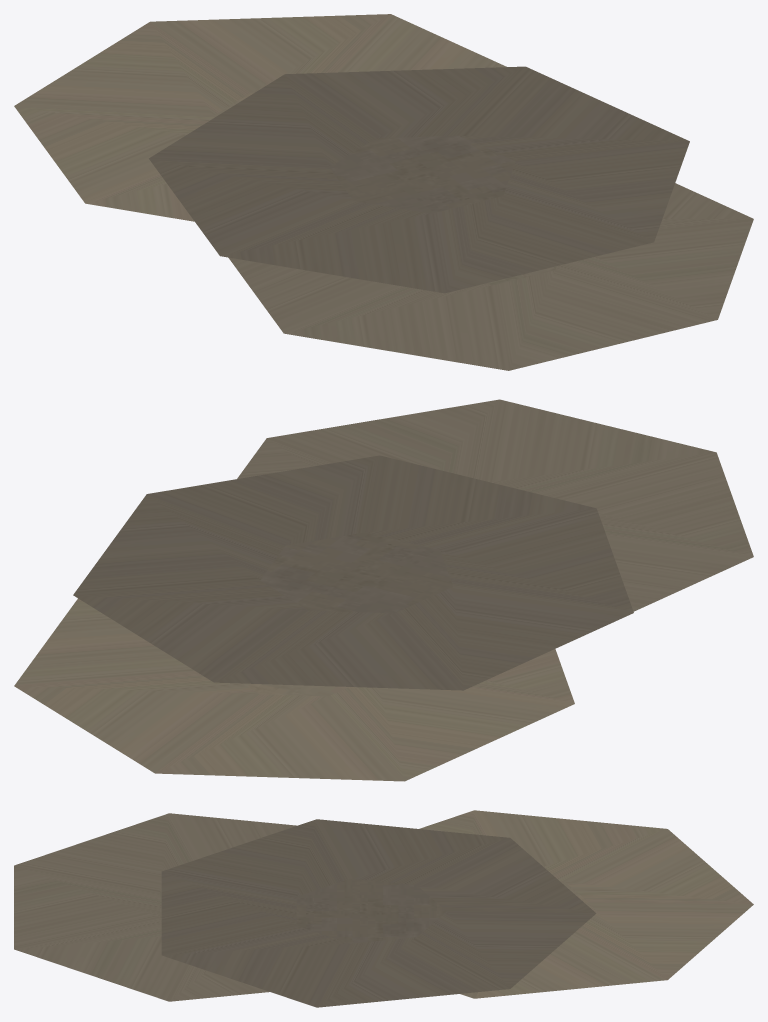
The model's file is stepping_stone_01.glb.
The picture shows the model from 3 angles, top to bottom: view 1: azimuth 30°, elevation 25°; view 2: azimuth 150°, elevation 25°; view 3: azimuth 270°, elevation 25°; orthographic projection. The views are drawn at different scales.
Parts seen in each view (by area): view 1: stepping_stone_01; view 2: stepping_stone_01; view 3: stepping_stone_01.
Part boxes in pixels (box(x1,y1,x2,y2)): stepping_stone_01: box(14, 14, 753, 370); stepping_stone_01: box(14, 399, 753, 781); stepping_stone_01: box(14, 810, 753, 1007).
Bounding box in the file's own units: 1.96 × 0.13 × 3.01.
Materials: 3 (3 with a texture image).
